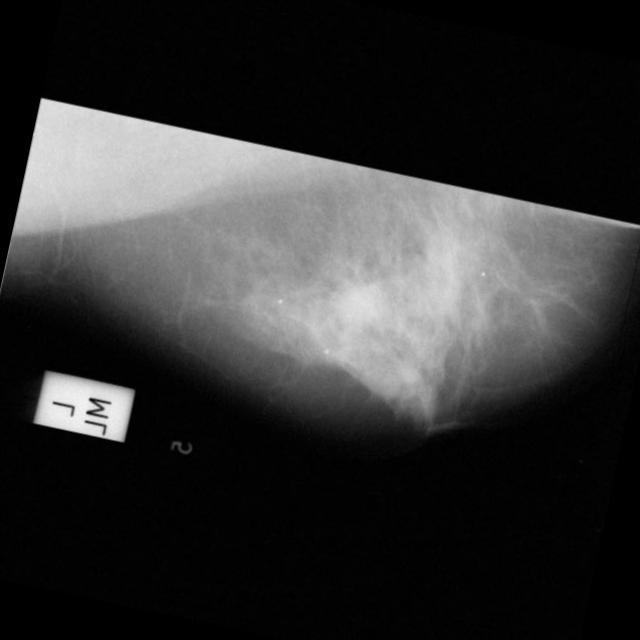MISC: (330, 281, 379, 330)
